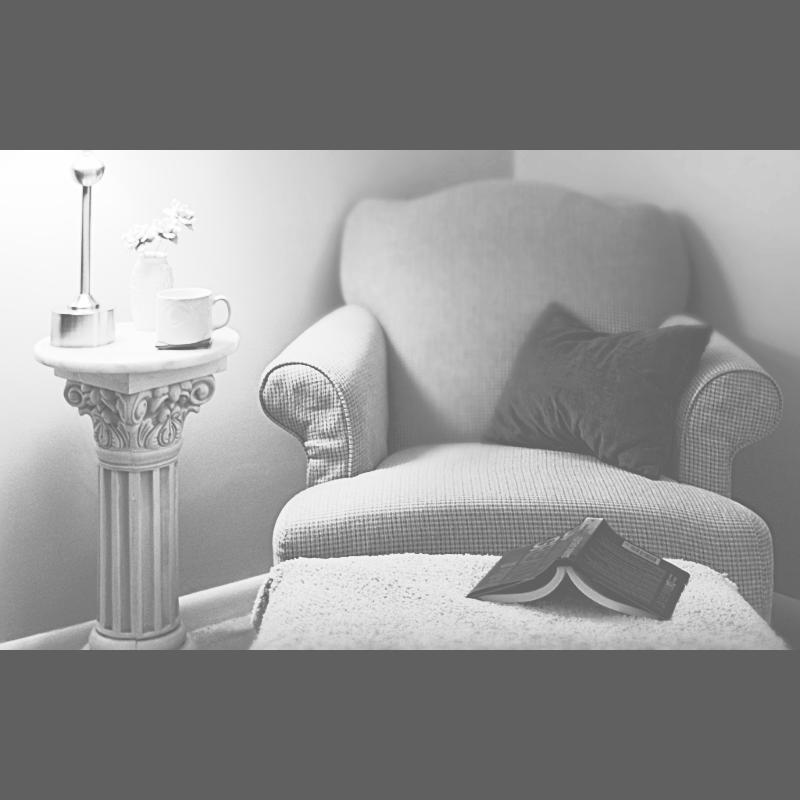pillow: (476, 288, 752, 472)
